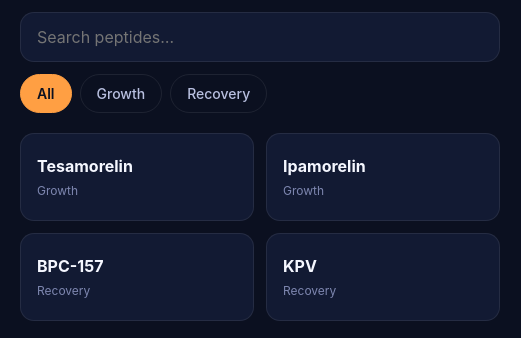
it: PeptidesTab › shows the empty state when nothing matches
Type "zzznope" into the search field labelled "Search peptides". click: [260, 37]
box: [20,12,500,62]
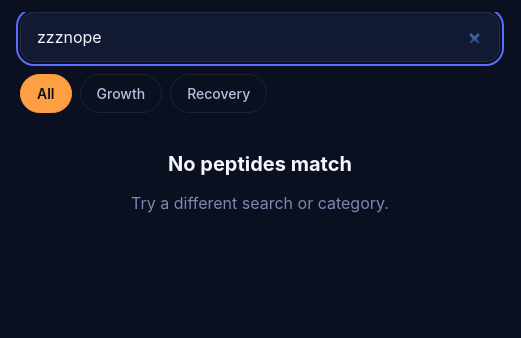
Check: the heading "No peptides match" is shown, box [168,149,352,179]
Check: the list is gone
